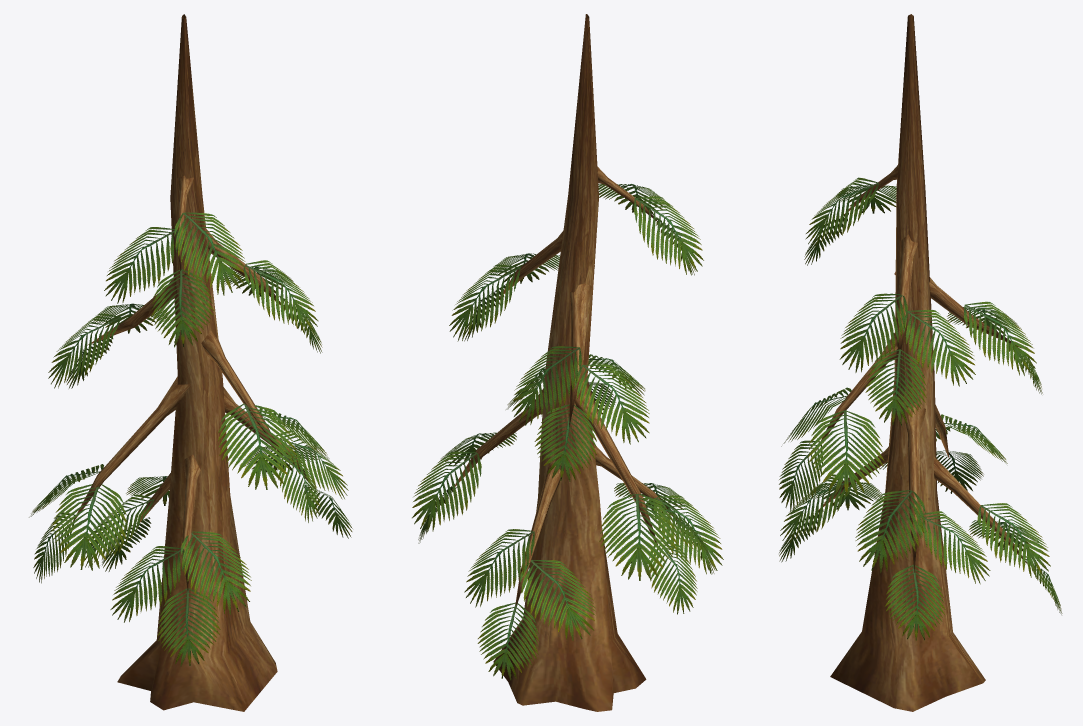
Rendered from obj_madaprtree03.glb.
3 views of the same model, side by side, from view 1: azimuth 30°, elevation 25°; view 2: azimuth 150°, elevation 25°; view 3: azimuth 270°, elevation 25° (orthographic). The views are drawn at different scales.
Parts seen in each view (by area): view 1: part_0; view 2: part_0; view 3: part_0.
Part boxes in pixels (box(x1,y1,x2,y2)): part_0: box(29, 14, 352, 711); part_0: box(412, 14, 723, 711); part_0: box(779, 14, 1062, 711).
Bounding box in the file's own units: 9.98 × 20.94 × 8.74.
Materials: 2 (2 with a texture image).
